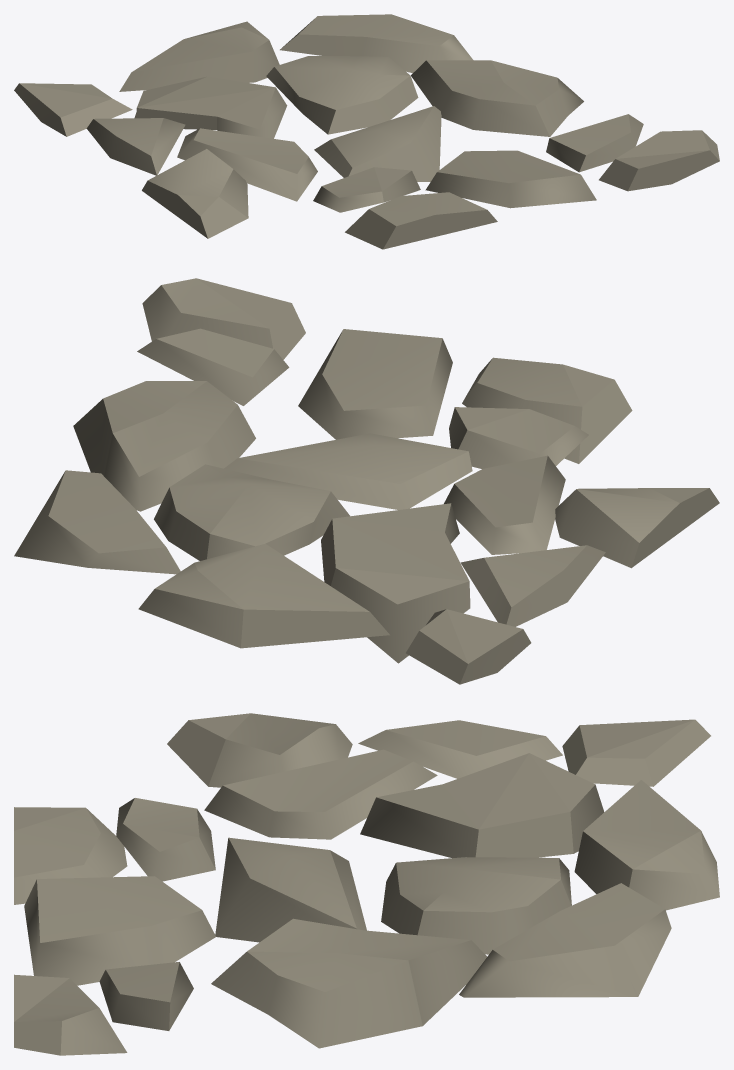
File: Stone_Path_Turn_RU.glb
3 views of the same model, one above another, from view 1: azimuth 30°, elevation 25°; view 2: azimuth 150°, elevation 25°; view 3: azimuth 270°, elevation 25° (orthographic). The views are drawn at different scales.
Visible parts, largest first — view 1: Stone_Path_Turn_RU; view 2: Stone_Path_Turn_RU; view 3: Stone_Path_Turn_RU.
Part boxes in pixels (x1,y1,x2,y2): Stone_Path_Turn_RU: (14, 14, 719, 249); Stone_Path_Turn_RU: (14, 278, 719, 684); Stone_Path_Turn_RU: (14, 713, 719, 1055).
Size of the model in its own units: 1.21 by 0.1509 by 1.12.
